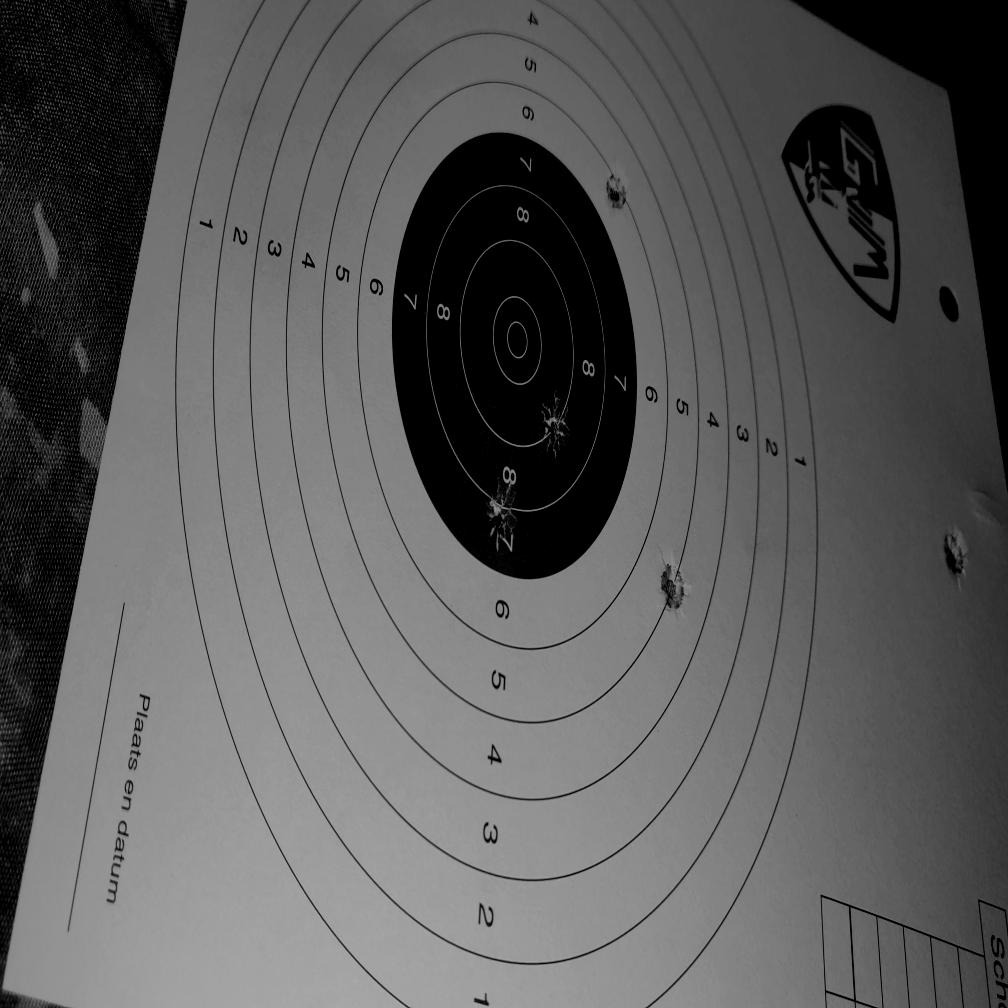0: (943, 524, 968, 593)
5: (660, 552, 687, 617)
7: (606, 171, 628, 211)
8: (485, 480, 515, 547)
9: (541, 394, 568, 460)
Target: (177, 3, 820, 1008)
black_contour: (394, 130, 638, 580)
